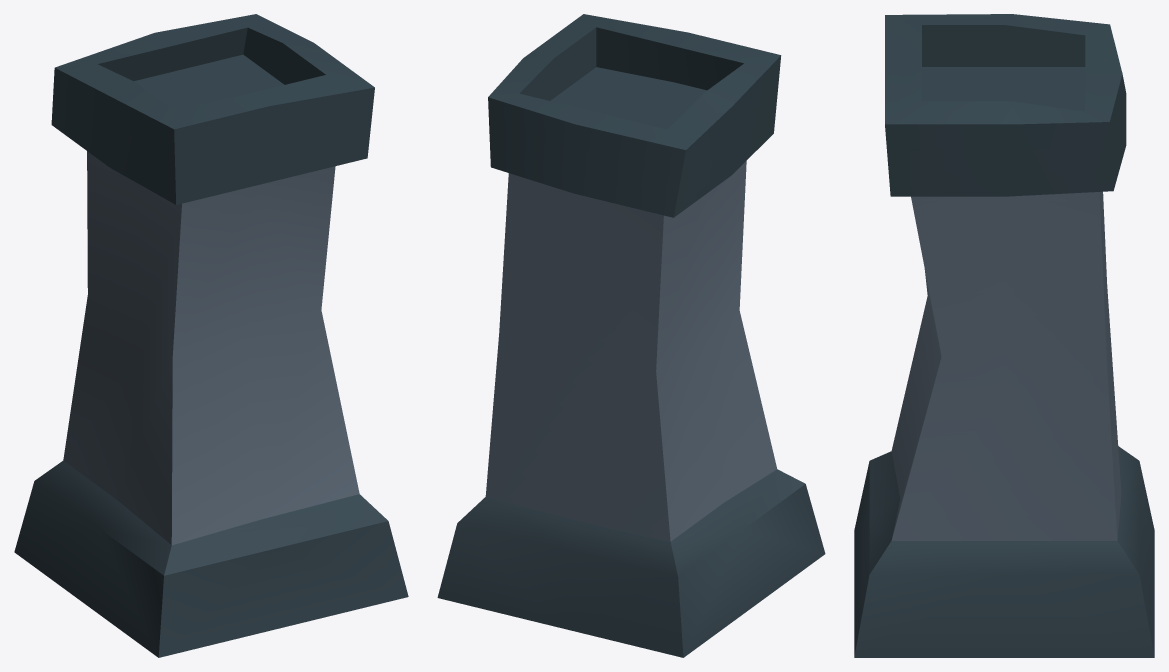
The model's file is Pillar_rough_A.fbx.
3 renders of one model, left to right at view 1: azimuth 30°, elevation 25°; view 2: azimuth 150°, elevation 25°; view 3: azimuth 270°, elevation 25°, orthographic. The views are drawn at different scales.
Visible parts, largest first — view 1: Pillar_rough_A; view 2: Pillar_rough_A; view 3: Pillar_rough_A.
Part boxes in pixels (x1,y1,x2,y2): Pillar_rough_A: [14, 14, 408, 657]; Pillar_rough_A: [437, 14, 825, 657]; Pillar_rough_A: [854, 14, 1154, 657].
Bounding box in the file's own units: 50.58 × 98.67 × 50.58.
